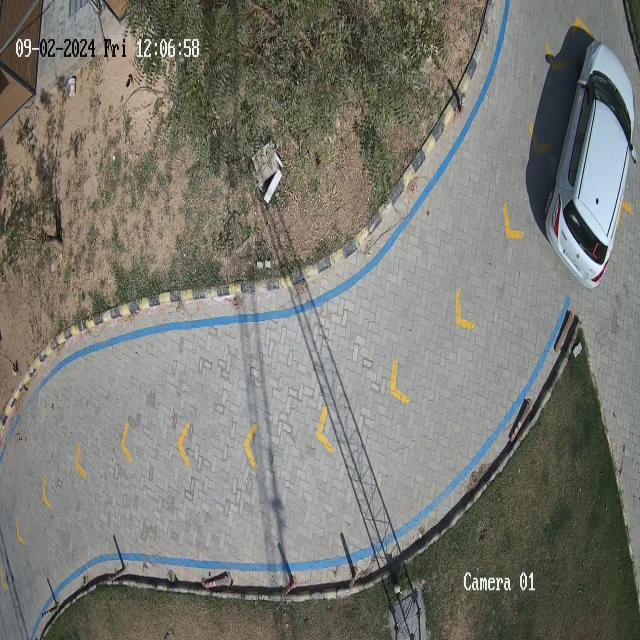car: (545, 42, 638, 289)
